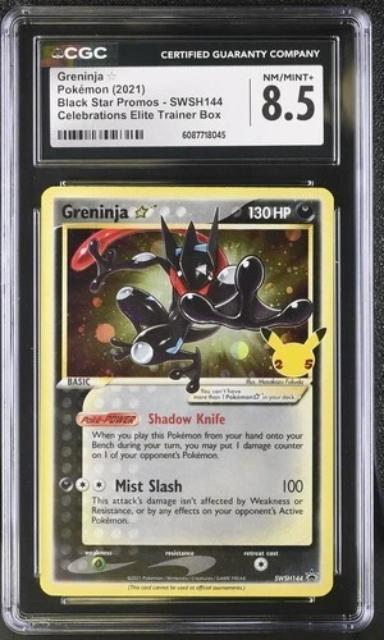Card: (38, 177, 337, 598)
Name: (56, 200, 129, 221)
